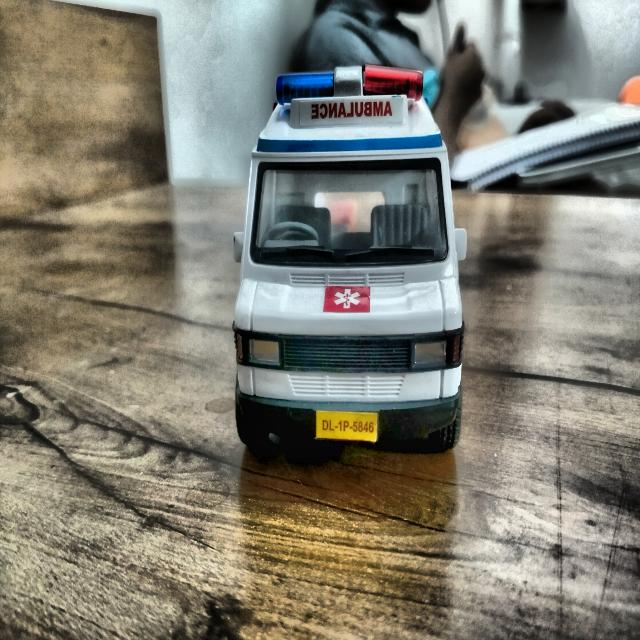Ambulance: (230, 62, 469, 479)
